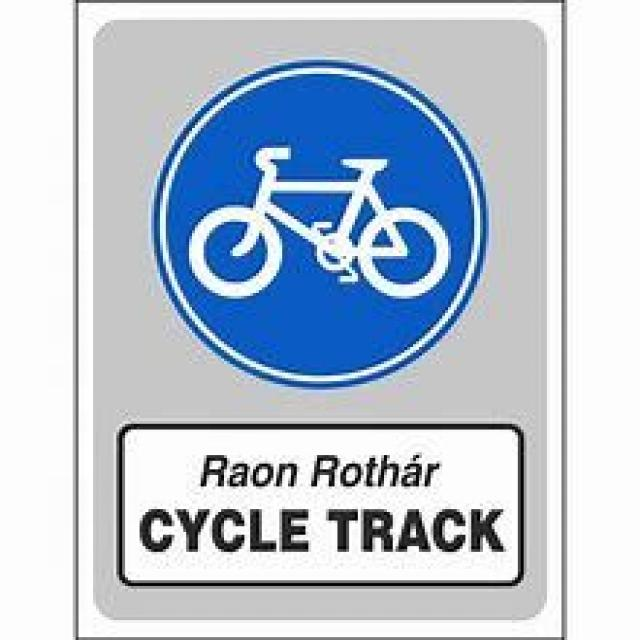COMPULSARY_CYCLE_TRACK: (145, 57, 489, 387)
